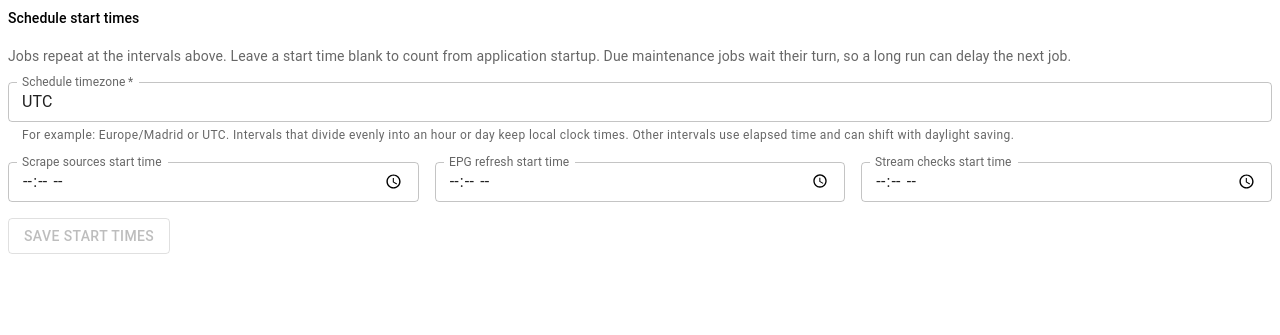
Test case: keeps the draft after a failed save
The width and height of the screenshot is (1280, 335).
Replace the text in the field labelled "Schedule timezone *" with "Europe/Madrid" at (640, 102), box 8,82 -> 1272,122
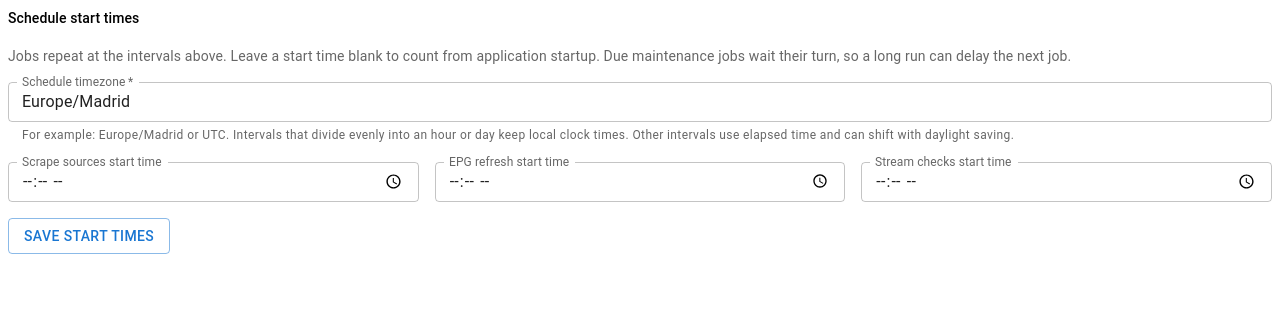
Click the button "Save start times" at (89, 236), box 8,218 -> 170,254
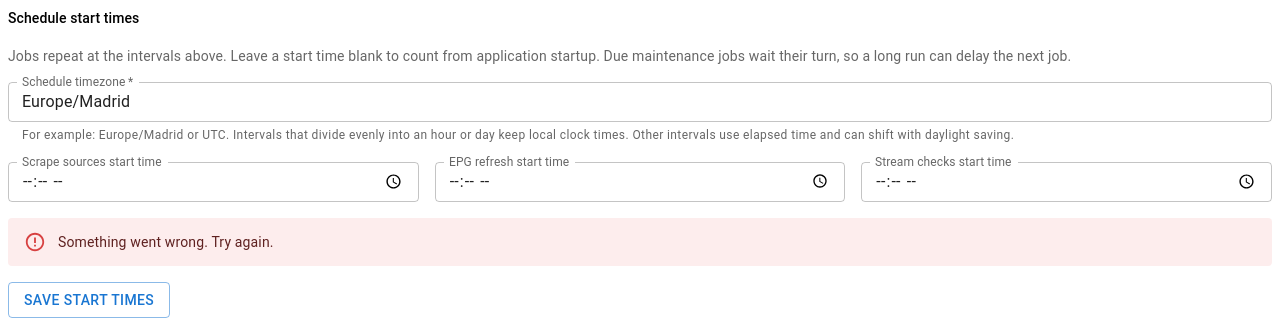
Now the message reads "Something went wrong. Try again.", box 58,234 -> 274,250
